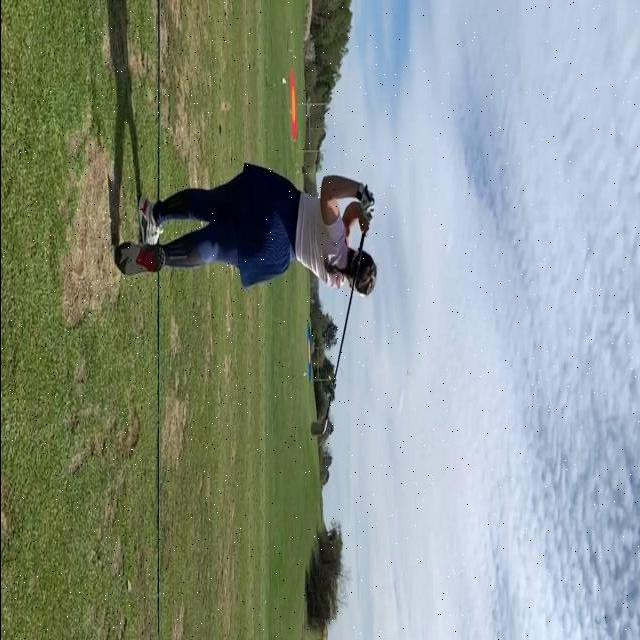golf club-handle: (310, 231, 365, 437)
golf club-head: (310, 419, 327, 436)
